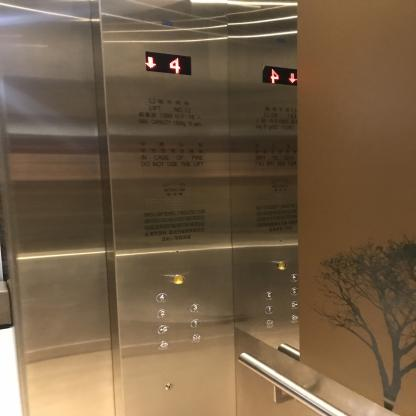1: (190, 318, 202, 328)
2: (156, 309, 168, 318)
3: (189, 303, 201, 313)
4: (155, 292, 168, 302)
alarm: (172, 274, 185, 284), (276, 261, 287, 270)
close: (190, 334, 202, 344), (264, 319, 274, 328)
open: (158, 340, 169, 350), (290, 314, 299, 323)
sG: (157, 324, 169, 334)
unknown: (264, 305, 274, 314), (289, 273, 299, 282), (264, 292, 274, 300), (290, 301, 299, 309), (290, 287, 299, 295)
